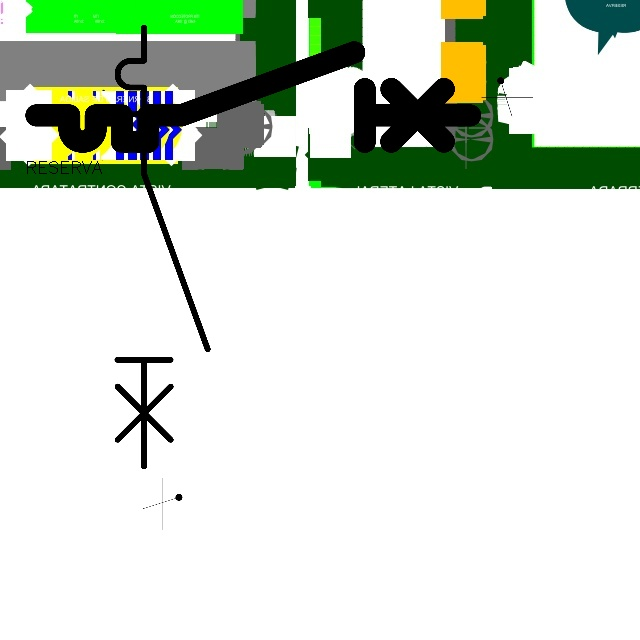interruptor_termomagnetico: (106, 16, 219, 477), (25, 41, 482, 153)
